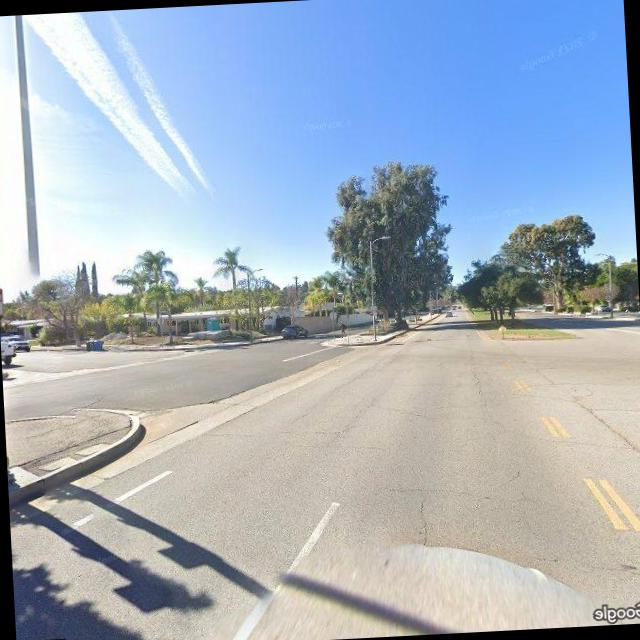pothole: (412, 492, 437, 546)
